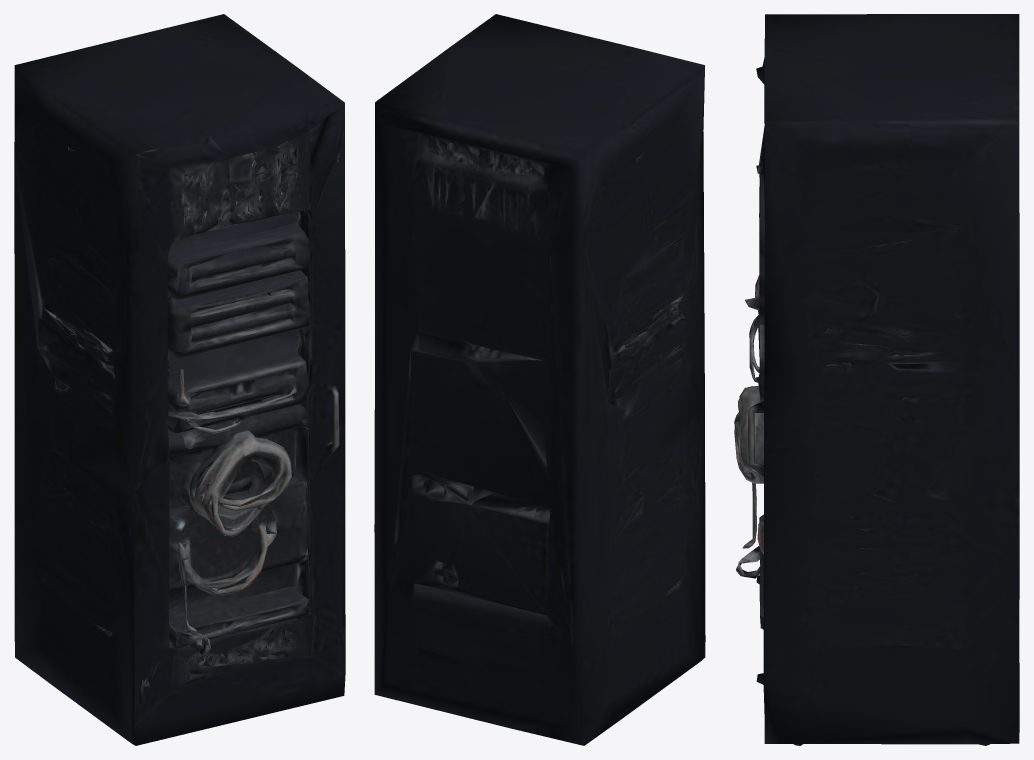
The model's file is server_rack.glb.
3 renders of one model, left to right at view 1: azimuth 30°, elevation 25°; view 2: azimuth 150°, elevation 25°; view 3: azimuth 270°, elevation 25°, orthographic. The views are drawn at different scales.
Bounding box in the file's own units: 0.6932 × 1.9 × 0.773.
1 material, 1 textured.
